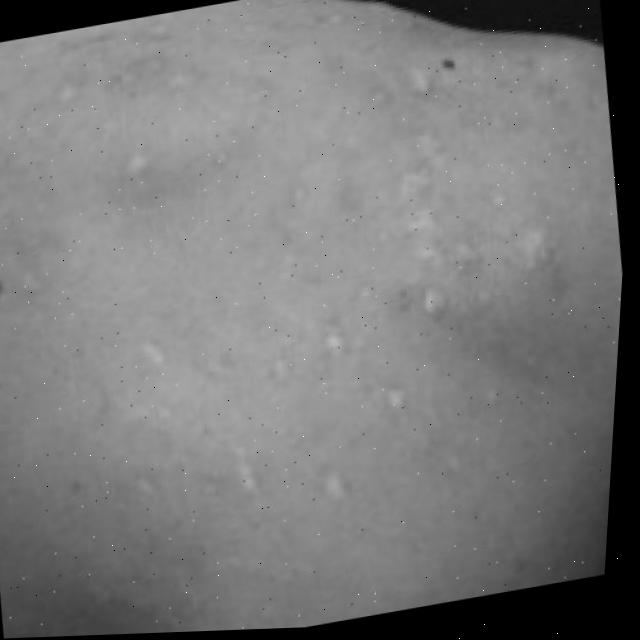Acne: (51, 25, 637, 637)
